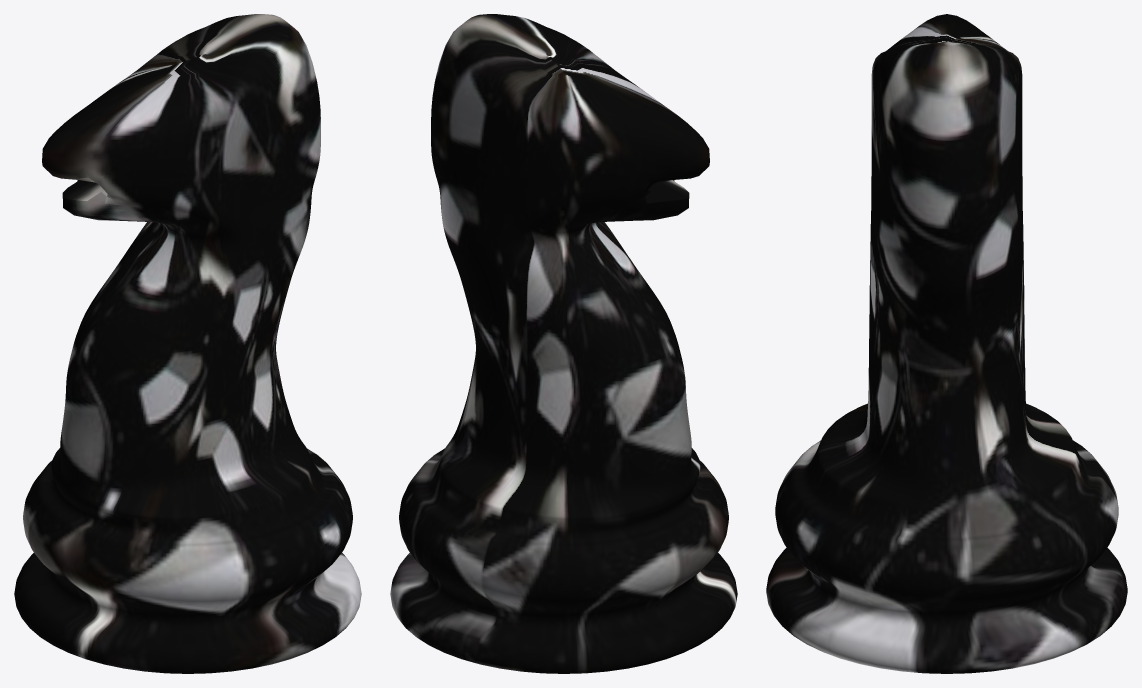
The model's file is knight.obj.
3 renders of one model, left to right at view 1: azimuth 30°, elevation 25°; view 2: azimuth 150°, elevation 25°; view 3: azimuth 270°, elevation 25°, orthographic. The views are drawn at different scales.
Visible parts, largest first — view 1: mesh002; view 2: mesh002; view 3: mesh002.
Boxes of the visible parts, x1=… form: mesh002: x1=14, y1=14, x2=361, y2=673; mesh002: x1=390, y1=14, x2=737, y2=673; mesh002: x1=766, y1=14, x2=1127, y2=673.
Bounding box in the file's own units: 7.95 × 14.34 × 7.95.
